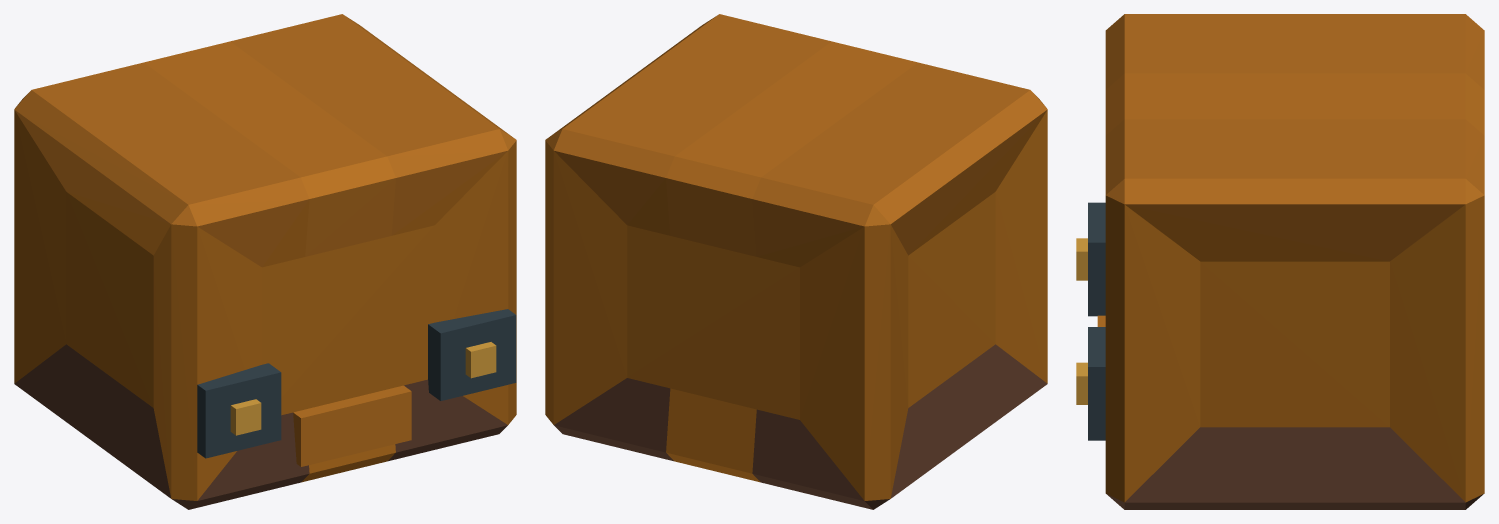
File: small-crate-butter.glb
3 renders of one model, left to right at view 1: azimuth 30°, elevation 25°; view 2: azimuth 150°, elevation 25°; view 3: azimuth 270°, elevation 25°, orthographic. The views are drawn at different scales.
Visible parts, largest first — view 1: small-crate-butter; view 2: small-crate-butter; view 3: small-crate-butter.
Boxes of the visible parts, x1,y1,x2,y2 form: small-crate-butter: [14, 14, 516, 509]; small-crate-butter: [545, 14, 1047, 509]; small-crate-butter: [1076, 14, 1484, 509].
Bounding box in the file's own units: 0.64 × 0.54 × 0.6033.
